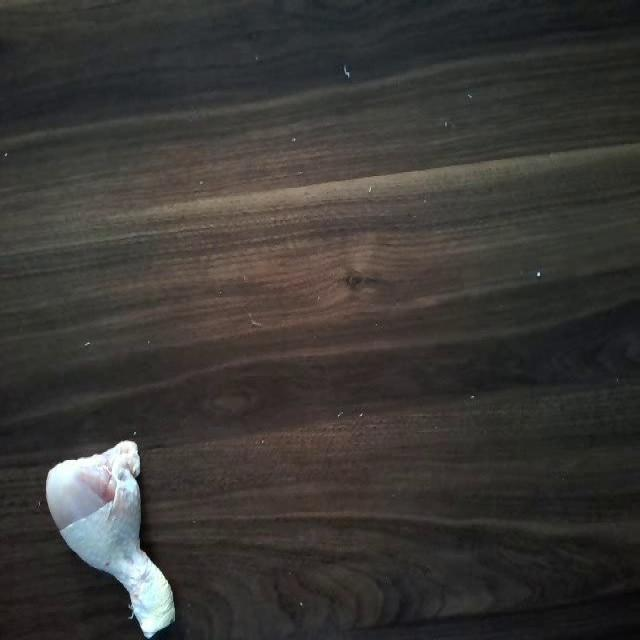leg: (43, 436, 176, 629)
